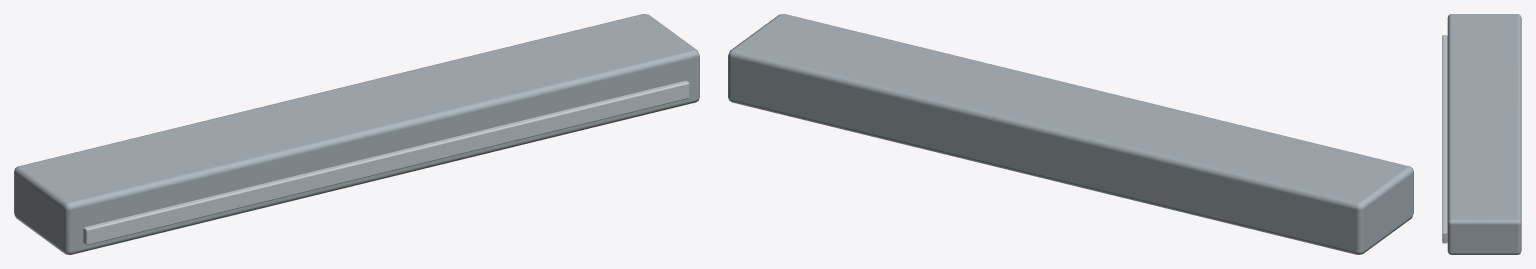
Rendered from SM_HeatLampRail.glb.
3 renders of one model, left to right at view 1: azimuth 30°, elevation 25°; view 2: azimuth 150°, elevation 25°; view 3: azimuth 270°, elevation 25°, orthographic. The views are drawn at different scales.
Parts seen in each view (by area): view 1: SM_HeatLampRail; view 2: SM_HeatLampRail; view 3: SM_HeatLampRail.
Part boxes in pixels (x1,y1,x2,y2): SM_HeatLampRail: (14, 14, 699, 254); SM_HeatLampRail: (728, 14, 1413, 254); SM_HeatLampRail: (1442, 14, 1521, 254).
Size of the model in its own units: 2.4 by 0.198 by 0.385.
3 materials, 3 textured.
